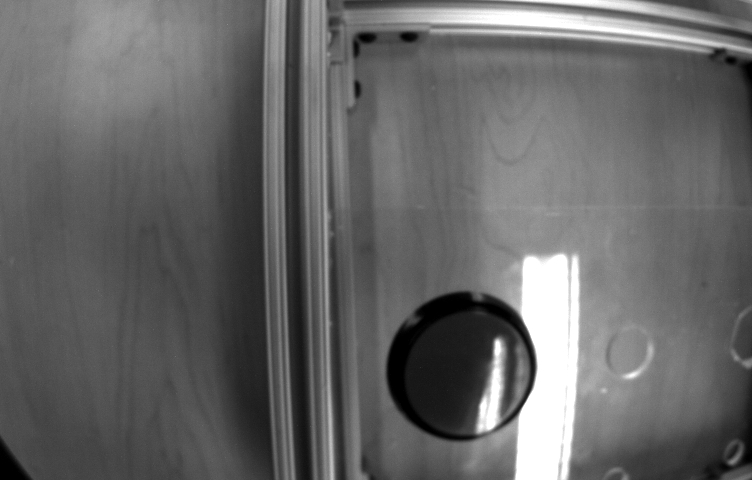big_red_button: (366, 267, 571, 455)
